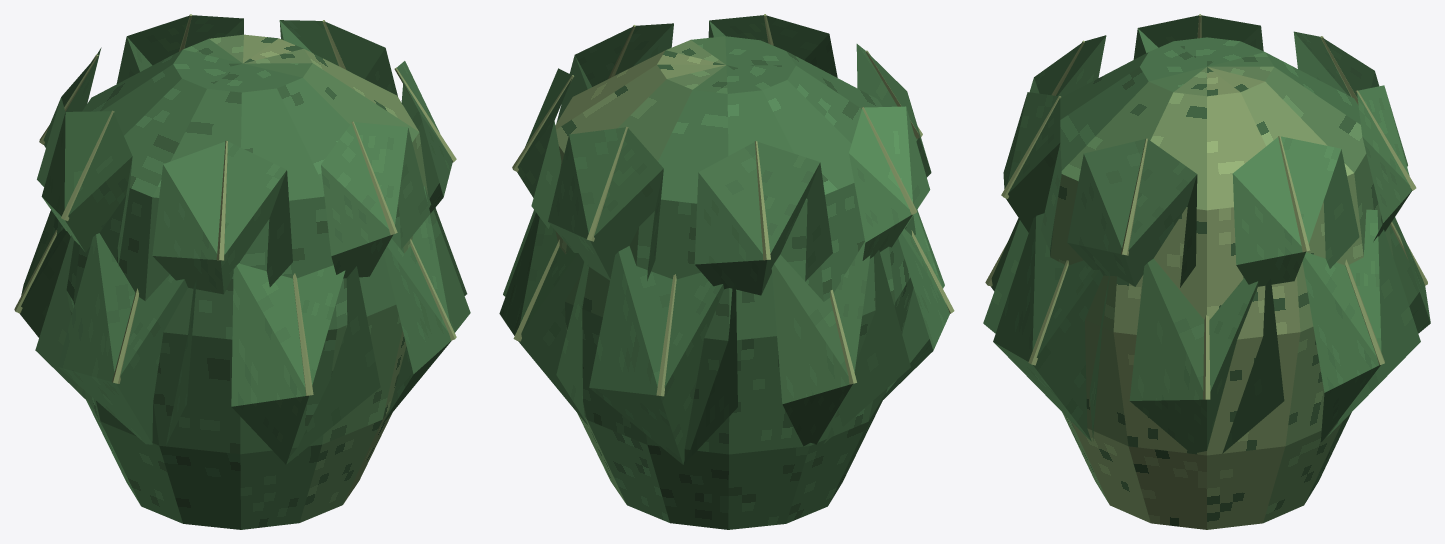
Rendered from kale_head.glb.
3 renders of one model, left to right at view 1: azimuth 30°, elevation 25°; view 2: azimuth 150°, elevation 25°; view 3: azimuth 270°, elevation 25°, orthographic.
Parts seen in each view (by area): view 1: block_inner head, block_overlapping cabbage leaf (×19), block_curled cabbage margin (×16), block_leaf rib (×6); view 2: block_inner head, block_overlapping cabbage leaf (×18), block_curled cabbage margin (×18), block_leaf rib (×5); view 3: block_inner head, block_overlapping cabbage leaf (×17), block_curled cabbage margin (×20), block_leaf rib (×5).
Boxes of the visible parts, <box> form: block_inner head: <box>53,34,427,529</box>; block_overlapping cabbage leaf (×19): <box>20,36,470,464</box>; block_curled cabbage margin (×16): <box>64,15,449,387</box>; block_leaf rib (×6): <box>61,110,456,395</box>; block_inner head: <box>555,36,915,529</box>; block_overlapping cabbage leaf (×18): <box>499,34,949,464</box>; block_curled cabbage margin (×18): <box>520,15,918,387</box>; block_leaf rib (×5): <box>587,107,917,396</box>; block_inner head: <box>1050,37,1393,529</box>; block_overlapping cabbage leaf (×17): <box>983,32,1430,453</box>; block_curled cabbage margin (×20): <box>1008,15,1409,391</box>; block_leaf rib (×5): <box>1028,135,1384,399</box>.
Size of the model in its own units: 0.1112 by 0.1125 by 0.1102.
Materials: 2 (2 with a texture image).
